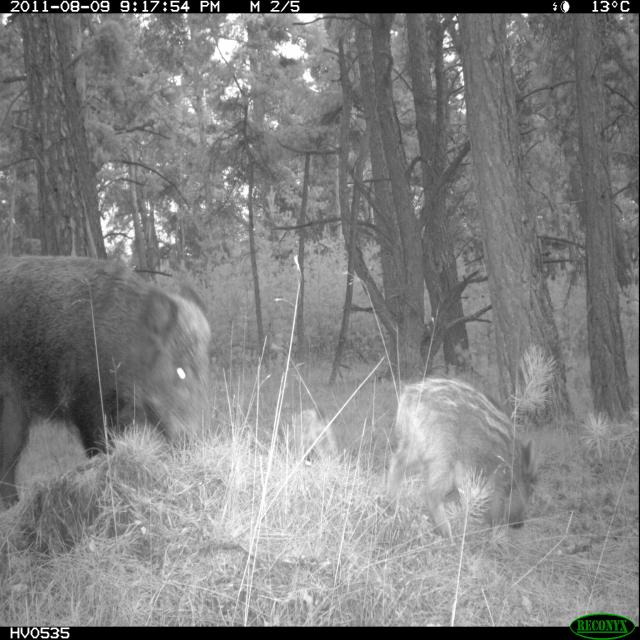boar: (1, 234, 222, 509), (348, 348, 533, 514)
